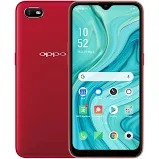oppo: (12, 1, 145, 159)
